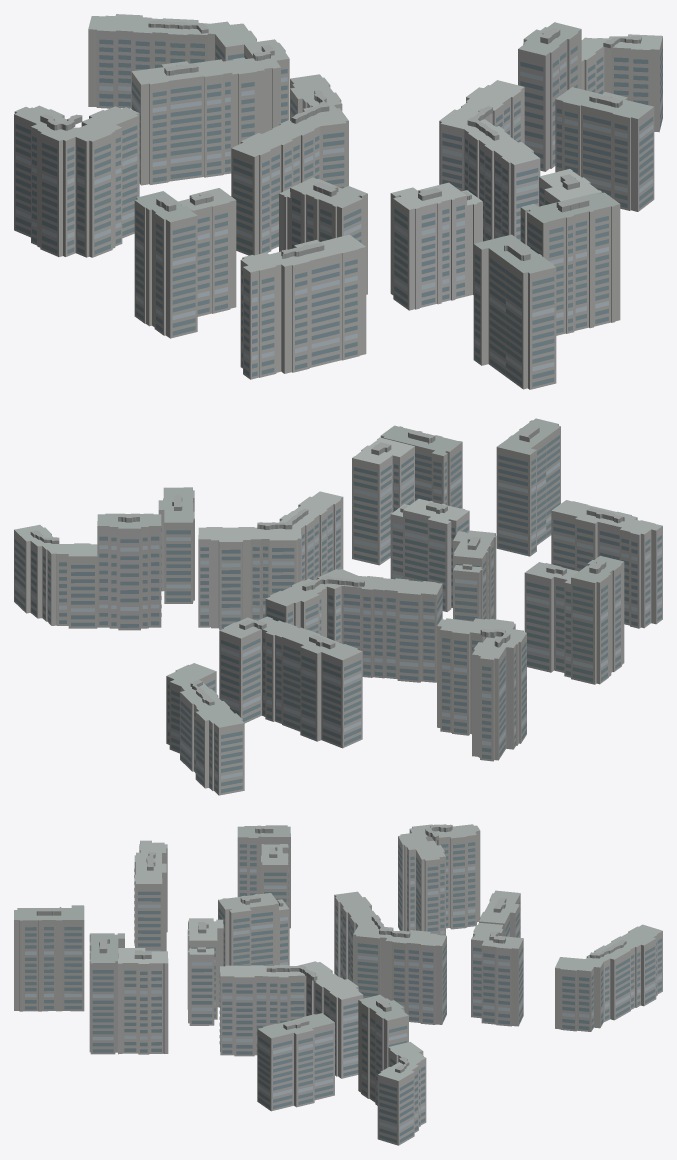
Rendered from apt-a12179504.glb.
3 views of the same model, one above another, from view 1: azimuth 30°, elevation 25°; view 2: azimuth 150°, elevation 25°; view 3: azimuth 270°, elevation 25° (orthographic). The views are drawn at different scales.
Parts seen in each view (by area): view 1: apt-a12179504; view 2: apt-a12179504; view 3: apt-a12179504.
Boxes of the visible parts, <box> form: apt-a12179504: <box>14,14,662,389</box>; apt-a12179504: <box>14,418,662,795</box>; apt-a12179504: <box>14,824,662,1145</box>.
Bounding box in the file's own units: 233 × 45 × 277.
